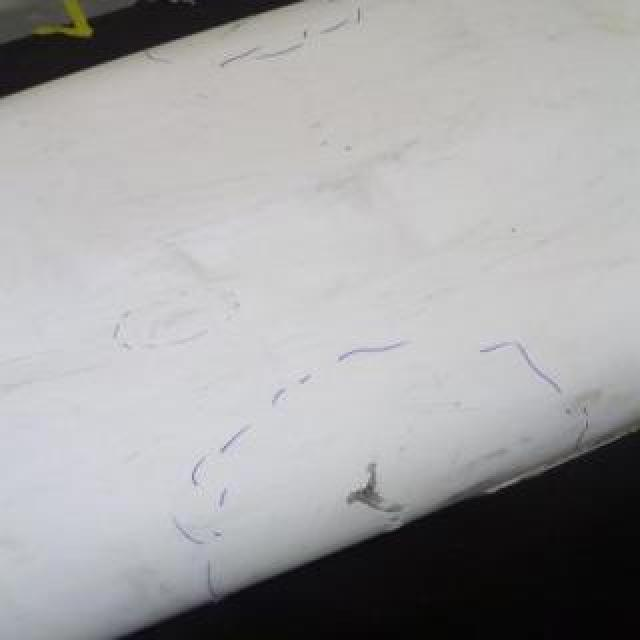crack: (342, 463, 410, 535)
